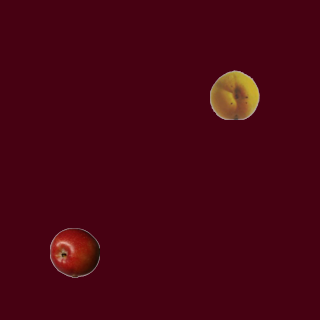Apple Braeburn: (49, 227, 99, 277)
Peach 2: (209, 69, 259, 119)
